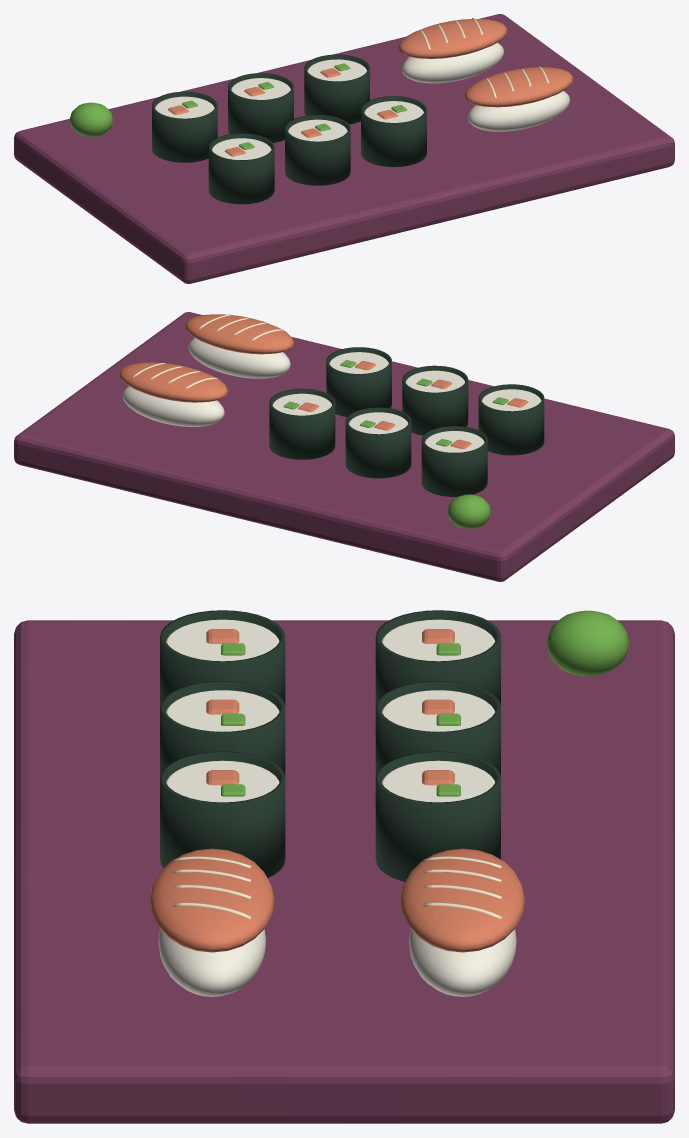
File: sushi.glb
3 views of the same model, one above another, from view 1: azimuth 30°, elevation 25°; view 2: azimuth 150°, elevation 25°; view 3: azimuth 270°, elevation 25° (orthographic). The views are drawn at different scales.
Visible parts, largest first — view 1: Original ceramic sushi tray, Hollow seaweed roll wrapper, Hollow seaweed roll wrapper.001, Hollow seaweed roll wrapper.002, Hollow seaweed roll wrapper.003, Original salmon nigiri topping, Original salmon nigiri topping.001, Hollow seaweed roll wrapper.004, Hollow seaweed roll wrapper.005, Sushi rice oval.001, Sushi rice oval, Wasabi garnish (+6 smaller); view 2: Original ceramic sushi tray, Hollow seaweed roll wrapper.004, Hollow seaweed roll wrapper.005, Hollow seaweed roll wrapper.003, Hollow seaweed roll wrapper, Original salmon nigiri topping.001, Original salmon nigiri topping, Hollow seaweed roll wrapper.001, Hollow seaweed roll wrapper.002, Sushi rice oval, Sushi rice oval.001, Wasabi garnish (+6 smaller); view 3: Original ceramic sushi tray, Hollow seaweed roll wrapper.005, Original salmon nigiri topping.001, Original salmon nigiri topping, Hollow seaweed roll wrapper.002, Hollow seaweed roll wrapper.001, Hollow seaweed roll wrapper.004, Hollow seaweed roll wrapper, Hollow seaweed roll wrapper.003, Sushi rice oval.001, Sushi rice oval, Wasabi garnish (+6 smaller).
Part boxes in pixels (x1=…): Original ceramic sushi tray: x1=14, y1=14, x2=674, y2=283; Hollow seaweed roll wrapper: x1=208, y1=133, x2=274, y2=204; Hollow seaweed roll wrapper.001: x1=285, y1=114, x2=350, y2=185; Hollow seaweed roll wrapper.002: x1=361, y1=96, x2=426, y2=167; Hollow seaweed roll wrapper.003: x1=152, y1=91, x2=217, y2=162; Original salmon nigiri topping: x1=464, y1=67, x2=573, y2=107; Original salmon nigiri topping.001: x1=398, y1=19, x2=507, y2=58; Hollow seaweed roll wrapper.004: x1=228, y1=73, x2=293, y2=142; Hollow seaweed roll wrapper.005: x1=304, y1=54, x2=369, y2=124; Sushi rice oval.001: x1=402, y1=42, x2=503, y2=83; Sushi rice oval: x1=468, y1=91, x2=569, y2=131; Wasabi garnish: x1=69, y1=102, x2=113, y2=137; Original ceramic sushi tray: x1=14, y1=312, x2=674, y2=581; Hollow seaweed roll wrapper.004: x1=345, y1=407, x2=411, y2=478; Hollow seaweed roll wrapper.005: x1=269, y1=388, x2=335, y2=459; Hollow seaweed roll wrapper.003: x1=421, y1=426, x2=487, y2=496; Hollow seaweed roll wrapper: x1=478, y1=384, x2=544, y2=455; Original salmon nigiri topping.001: x1=119, y1=362, x2=228, y2=402; Original salmon nigiri topping: x1=185, y1=314, x2=294, y2=354; Hollow seaweed roll wrapper.001: x1=402, y1=365, x2=468, y2=435; Hollow seaweed roll wrapper.002: x1=326, y1=347, x2=391, y2=416; Sushi rice oval: x1=188, y1=338, x2=290, y2=378; Sushi rice oval.001: x1=122, y1=386, x2=224, y2=426; Wasabi garnish: x1=447, y1=494, x2=490, y2=528; Original ceramic sushi tray: x1=14, y1=620, x2=674, y2=1123; Hollow seaweed roll wrapper.005: x1=375, y1=751, x2=500, y2=881; Original salmon nigiri topping.001: x1=400, y1=848, x2=525, y2=952; Original salmon nigiri topping: x1=149, y1=848, x2=274, y2=952; Hollow seaweed roll wrapper.002: x1=160, y1=751, x2=285, y2=877; Hollow seaweed roll wrapper.001: x1=160, y1=681, x2=285, y2=777; Hollow seaweed roll wrapper.004: x1=375, y1=681, x2=500, y2=777; Hollow seaweed roll wrapper: x1=160, y1=610, x2=285, y2=706; Hollow seaweed roll wrapper.003: x1=375, y1=610, x2=500, y2=706; Sushi rice oval.001: x1=409, y1=929, x2=516, y2=996; Sushi rice oval: x1=158, y1=928, x2=266, y2=996; Wasabi garnish: x1=546, y1=610, x2=629, y2=676.
Bounding box in the file's own units: 0.31 × 0.0473 × 0.19.
Materials: 6 (6 with a texture image).
